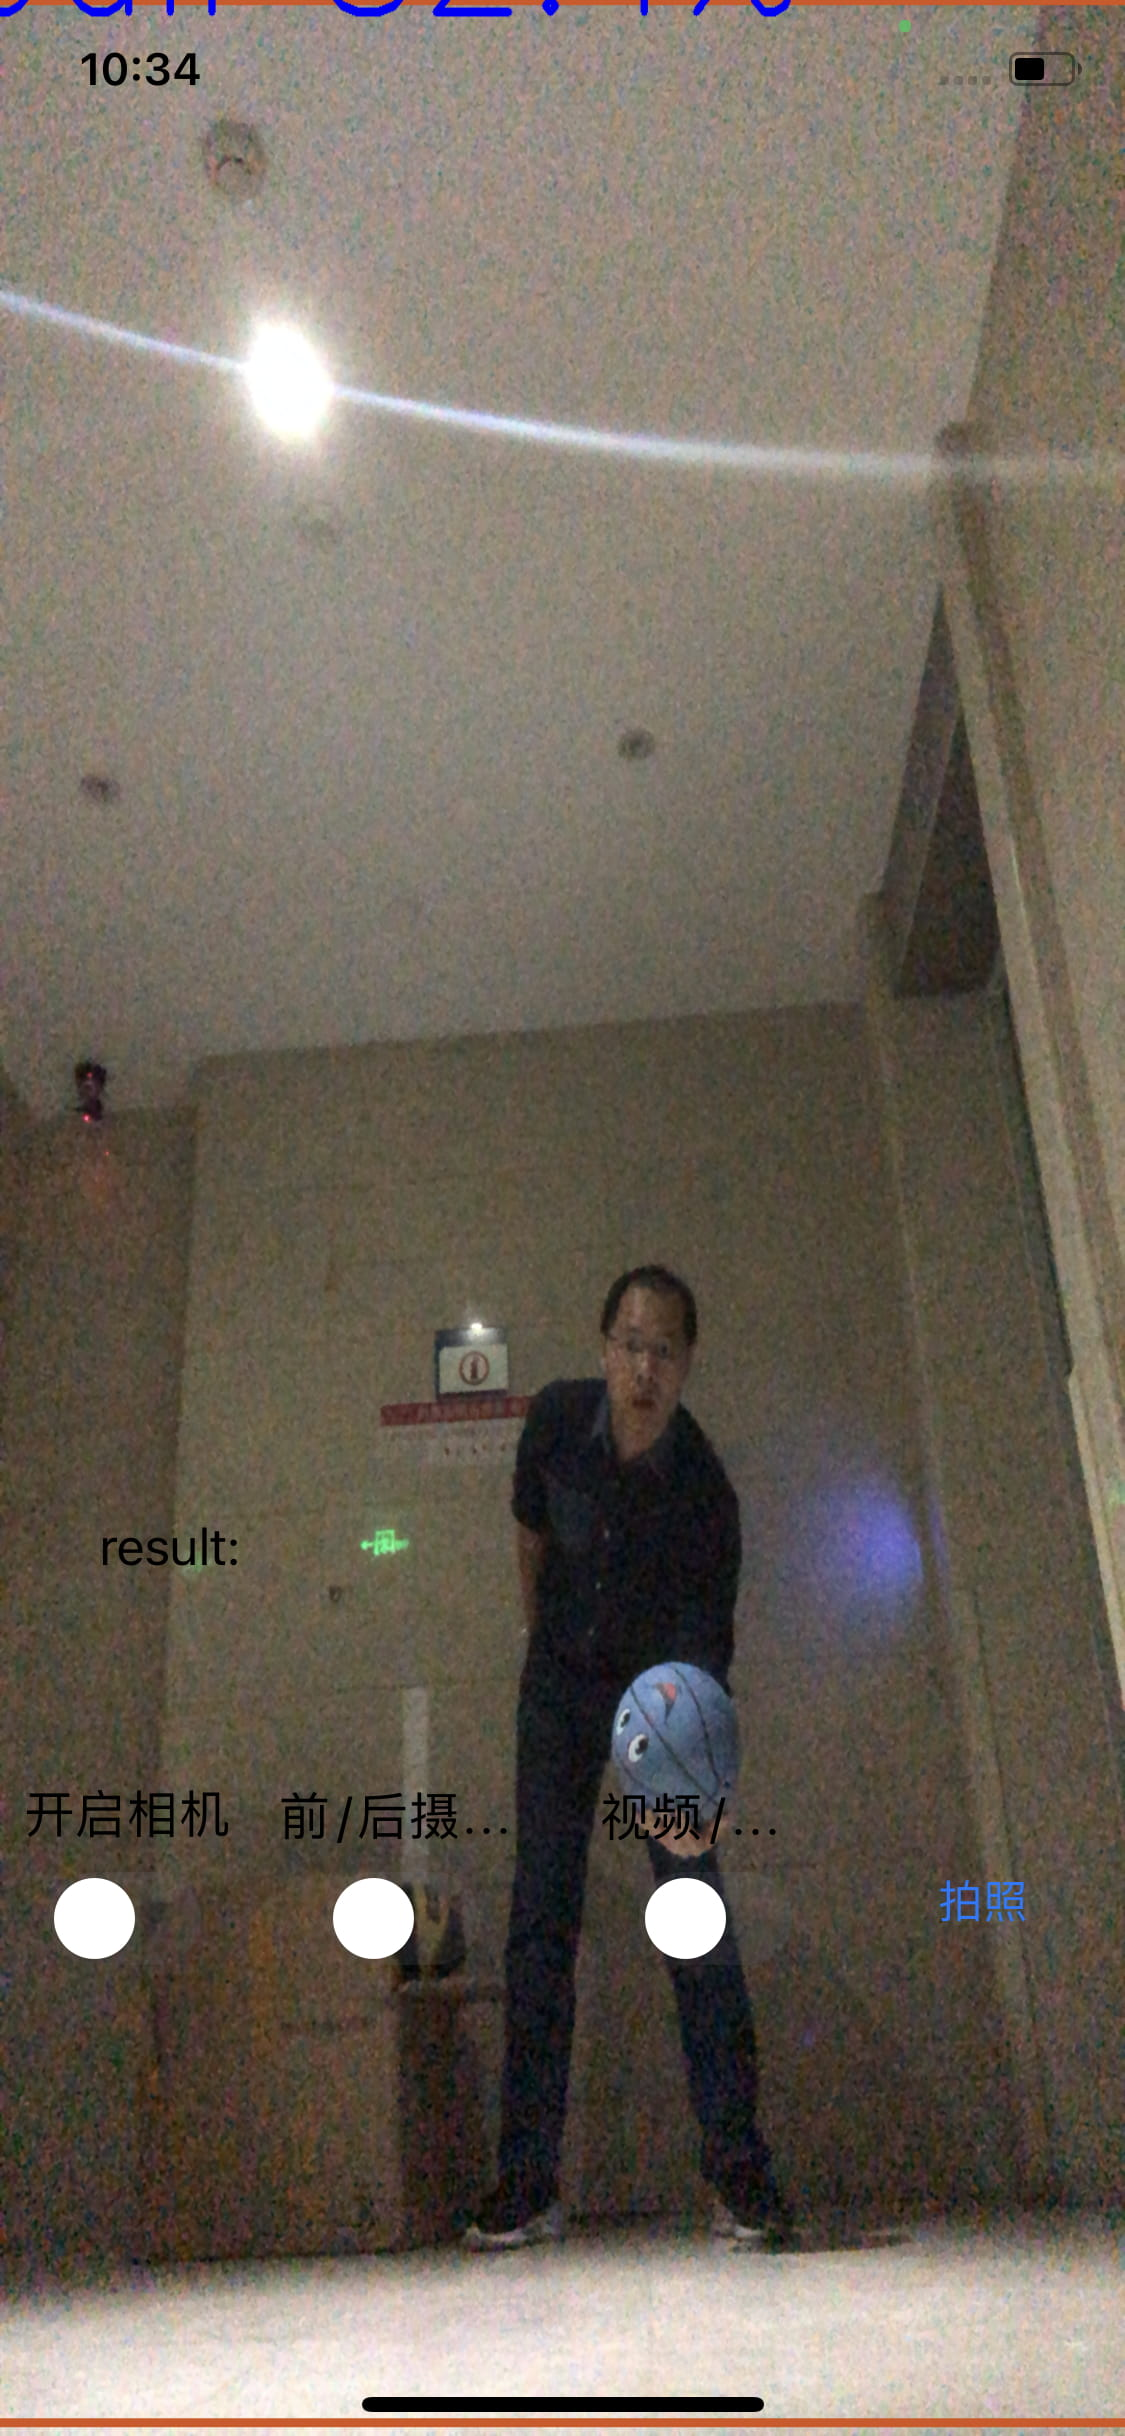ball: (612, 1659, 740, 1829)
